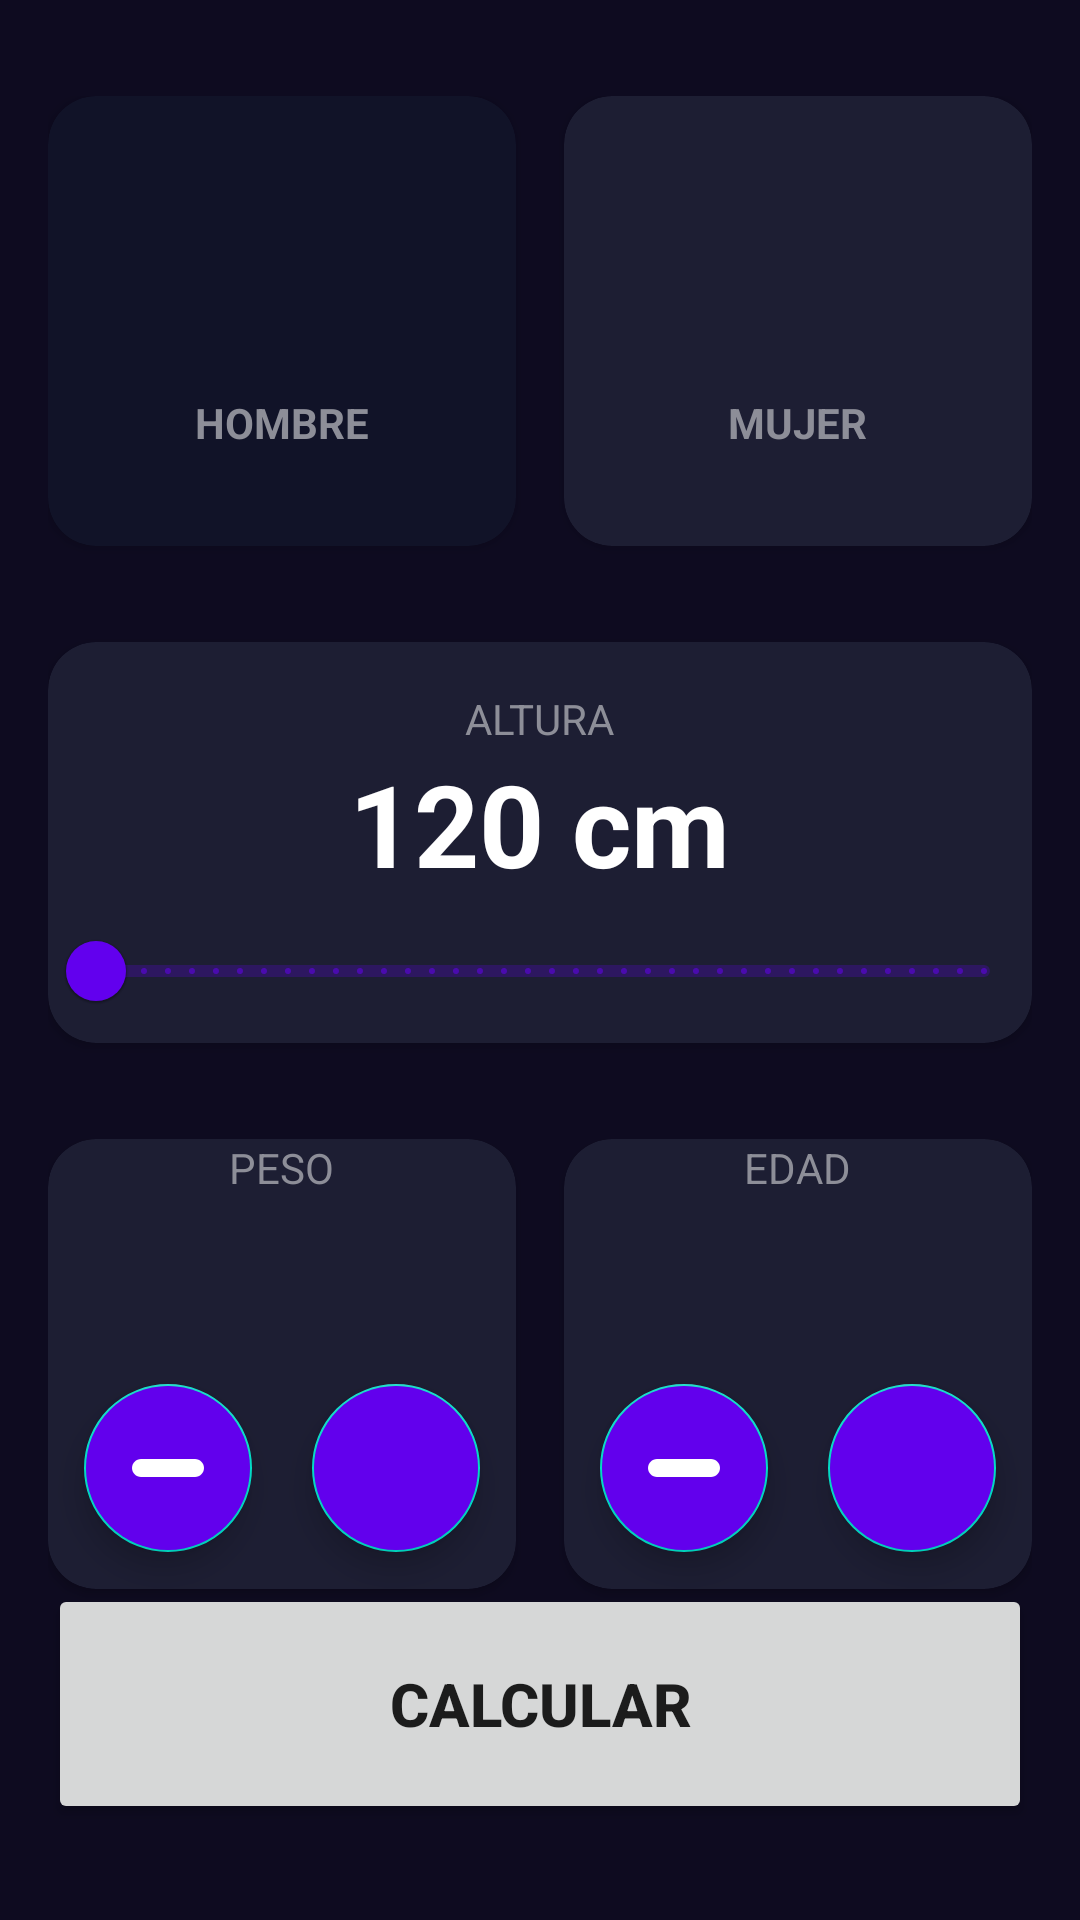

Where icons sit on this 1080px×1920px app screen, as bbox(x1, y1, x2, y2):
minus: bbox(84, 1384, 252, 1552), bbox(600, 1384, 768, 1552)
